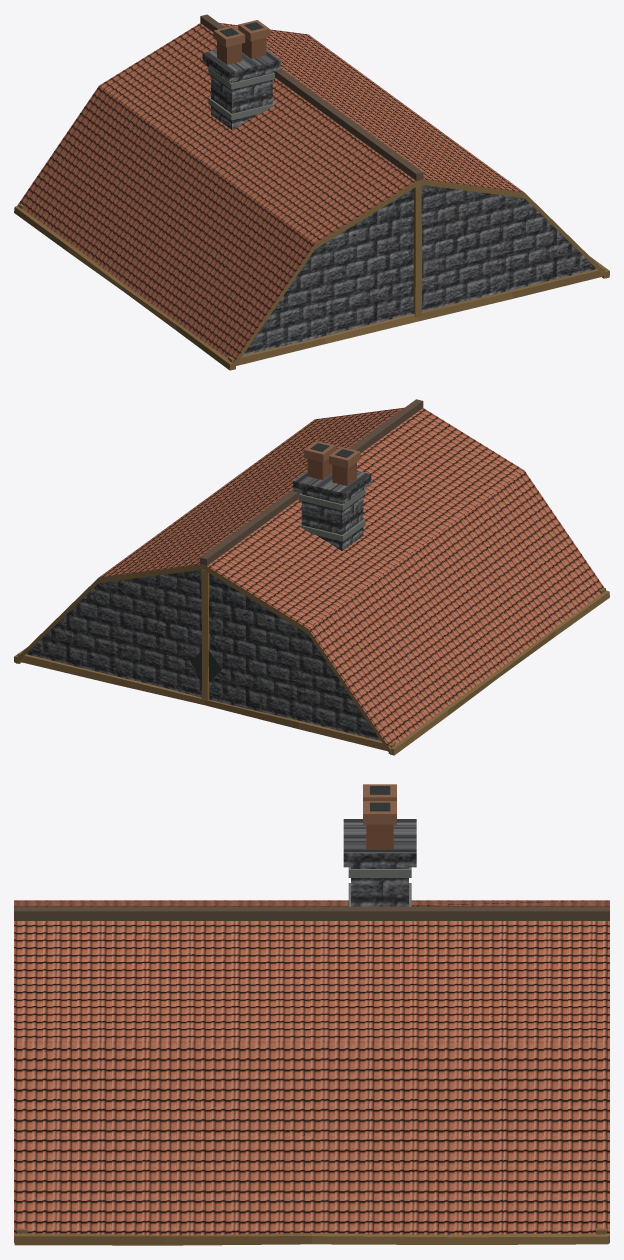
File: town_Roof_03_gambrel.glb
The picture shows the model from 3 angles, top to bottom: view 1: azimuth 30°, elevation 25°; view 2: azimuth 150°, elevation 25°; view 3: azimuth 270°, elevation 25°; orthographic projection. The views are drawn at different scales.
Visible parts, largest first — view 1: town_Roof_03_gambrel.005; view 2: town_Roof_03_gambrel.005; view 3: town_Roof_03_gambrel.005.
Boxes of the visible parts, bbox=[...] form: town_Roof_03_gambrel.005: bbox=[14, 14, 609, 370]; town_Roof_03_gambrel.005: bbox=[14, 399, 609, 755]; town_Roof_03_gambrel.005: bbox=[14, 784, 609, 1245].
Bounding box in the file's own units: 7.13 × 3.74 × 7.
Materials: 3 (2 with a texture image).
